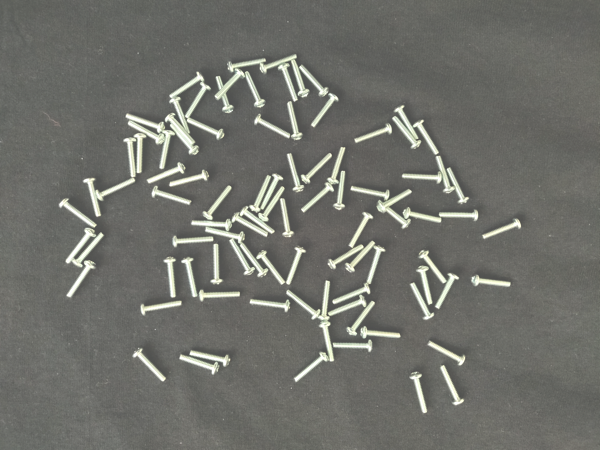longscrew: (58, 197, 100, 230), (66, 260, 100, 300), (71, 231, 106, 269), (132, 347, 167, 384), (438, 364, 467, 407), (293, 351, 330, 384), (65, 227, 97, 265), (202, 184, 234, 221), (256, 249, 287, 287), (284, 289, 322, 320), (227, 238, 256, 278), (164, 111, 197, 146), (301, 181, 336, 214), (408, 281, 436, 322), (346, 300, 377, 337), (239, 241, 269, 279), (427, 339, 467, 367), (377, 199, 412, 231), (95, 176, 138, 202), (240, 205, 276, 236), (418, 249, 449, 285), (311, 92, 341, 129), (213, 69, 247, 101), (298, 63, 330, 97), (392, 115, 422, 151), (258, 185, 287, 222), (253, 112, 291, 140), (259, 173, 287, 211), (347, 211, 375, 249), (301, 152, 334, 184), (345, 240, 377, 273), (169, 122, 200, 156), (185, 116, 227, 141), (169, 71, 206, 99), (184, 82, 212, 119), (413, 118, 440, 156), (434, 273, 461, 311), (231, 212, 270, 238), (393, 104, 420, 141), (145, 162, 188, 185), (178, 353, 221, 376), (327, 244, 365, 270), (243, 70, 268, 109), (151, 184, 193, 207), (481, 218, 523, 241), (376, 188, 413, 214), (277, 63, 301, 103), (447, 166, 471, 206), (127, 120, 165, 145), (124, 112, 167, 134), (249, 173, 272, 214), (286, 245, 309, 286), (331, 283, 372, 306), (434, 154, 457, 195), (169, 96, 193, 135), (327, 295, 369, 317), (409, 371, 430, 415), (326, 145, 348, 186), (365, 245, 387, 286), (82, 176, 103, 218), (214, 74, 236, 114), (259, 52, 299, 74), (189, 348, 232, 368), (353, 123, 393, 144), (289, 59, 311, 97), (285, 100, 305, 141), (286, 152, 306, 193), (169, 170, 212, 189), (181, 256, 200, 299), (319, 319, 337, 364), (140, 299, 184, 317), (416, 265, 435, 306), (158, 128, 176, 170), (204, 226, 246, 244), (350, 184, 391, 202), (402, 207, 443, 225), (226, 56, 269, 73), (162, 256, 179, 299), (249, 298, 292, 315), (316, 279, 333, 322), (279, 197, 295, 239), (199, 289, 242, 304), (360, 325, 403, 340), (470, 274, 512, 289), (171, 235, 215, 249), (123, 137, 138, 178), (401, 171, 444, 185), (333, 339, 375, 353), (438, 209, 480, 223), (333, 170, 347, 211), (190, 218, 234, 231), (211, 242, 224, 286), (134, 133, 147, 174)
